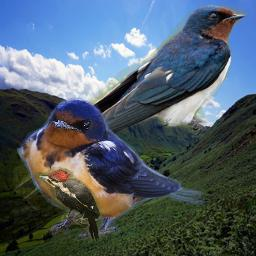Swallow: (13, 5, 248, 201), (17, 97, 205, 241)
Woodpecker: (35, 167, 106, 244)
